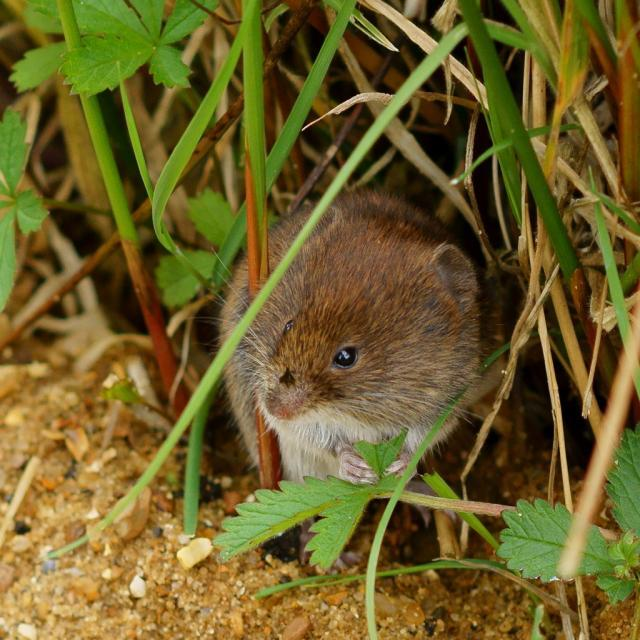rat: (218, 196, 481, 570)
